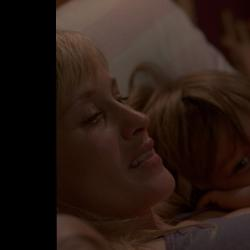face: (56, 22, 175, 227)
